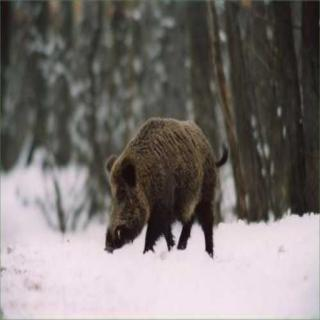Pig: (79, 87, 256, 252)
